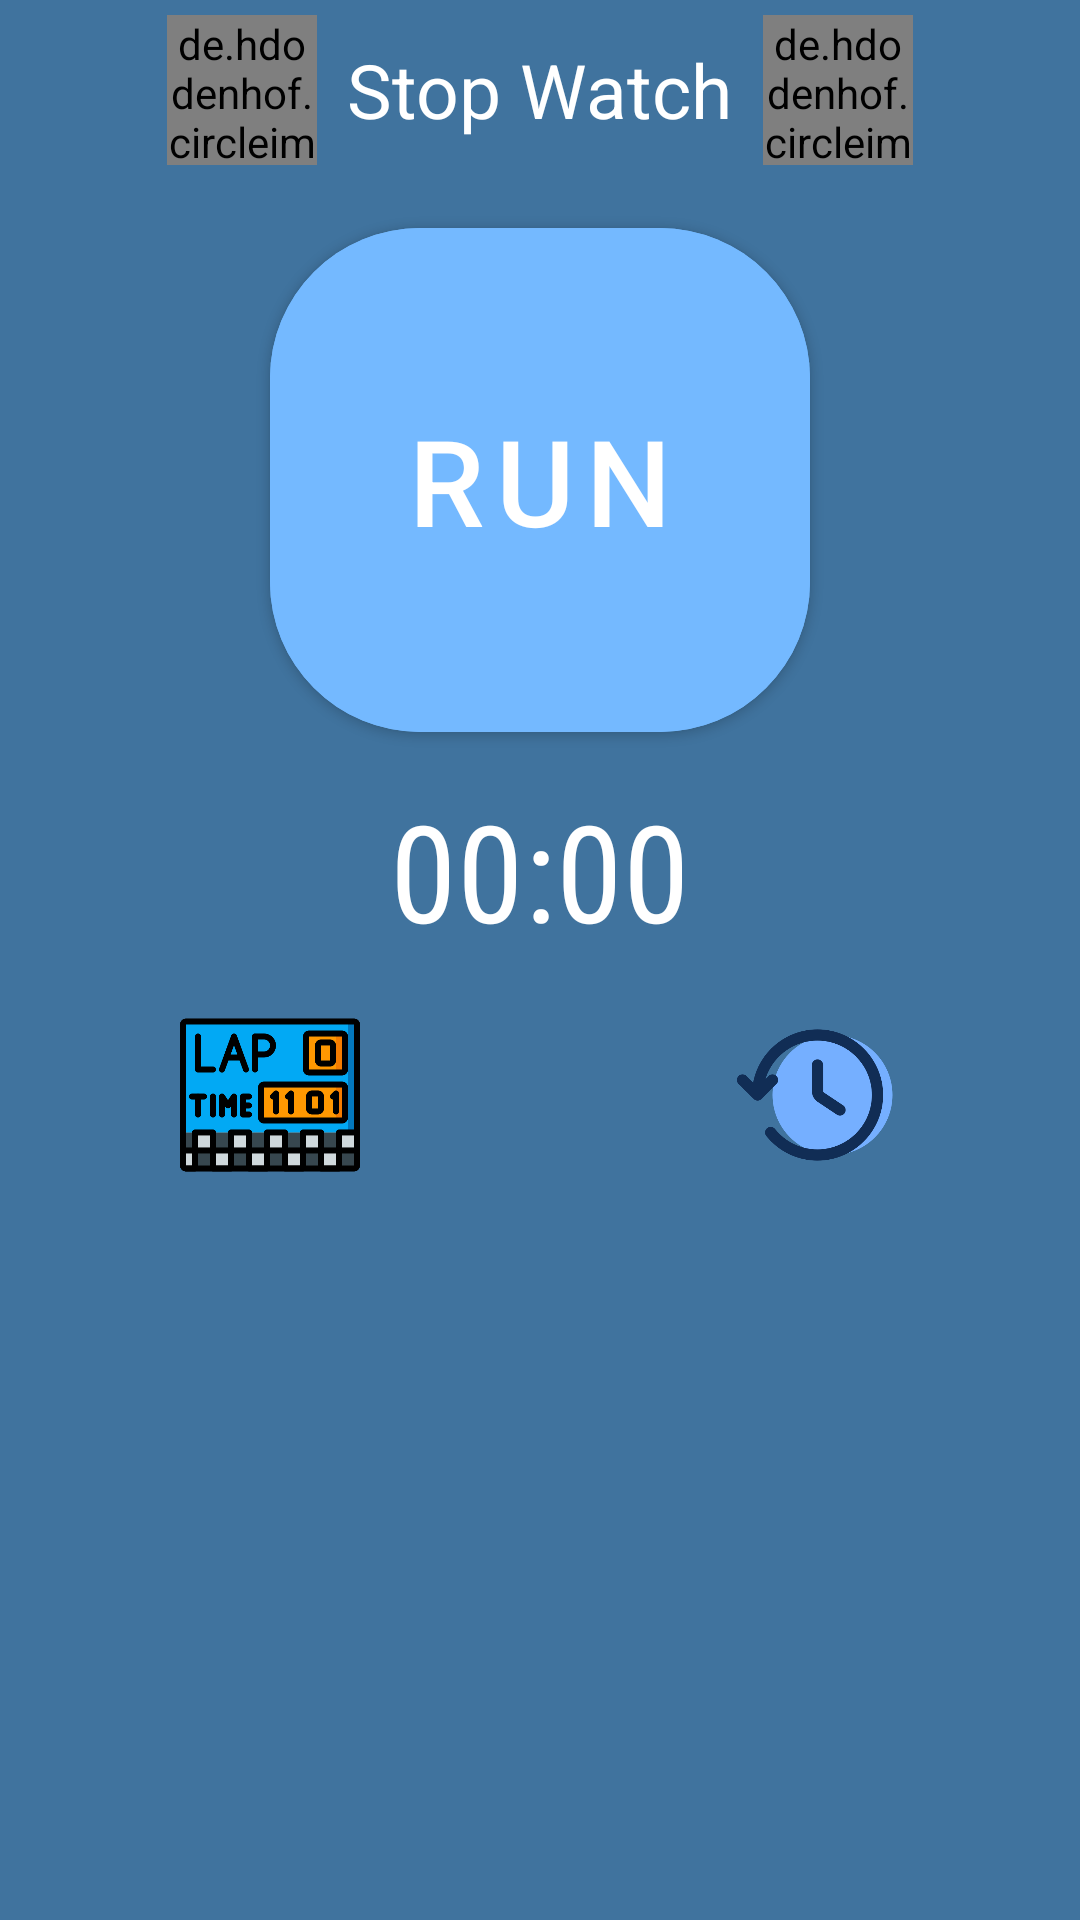

Icons on this 1080w x 1920h Android screen, each with the point to tap as (x=x, y=y):
restore: (x=815, y=1095)
